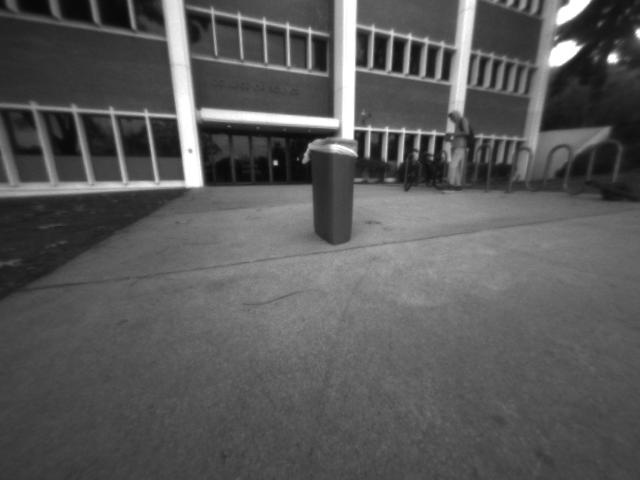trashcan_open: (301, 129, 364, 252)
